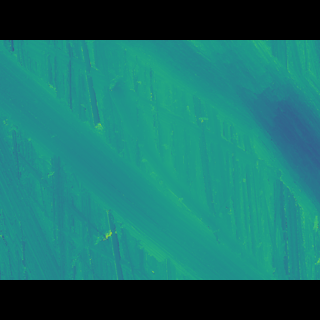Loch: (0, 74, 278, 249), (114, 69, 320, 218)
